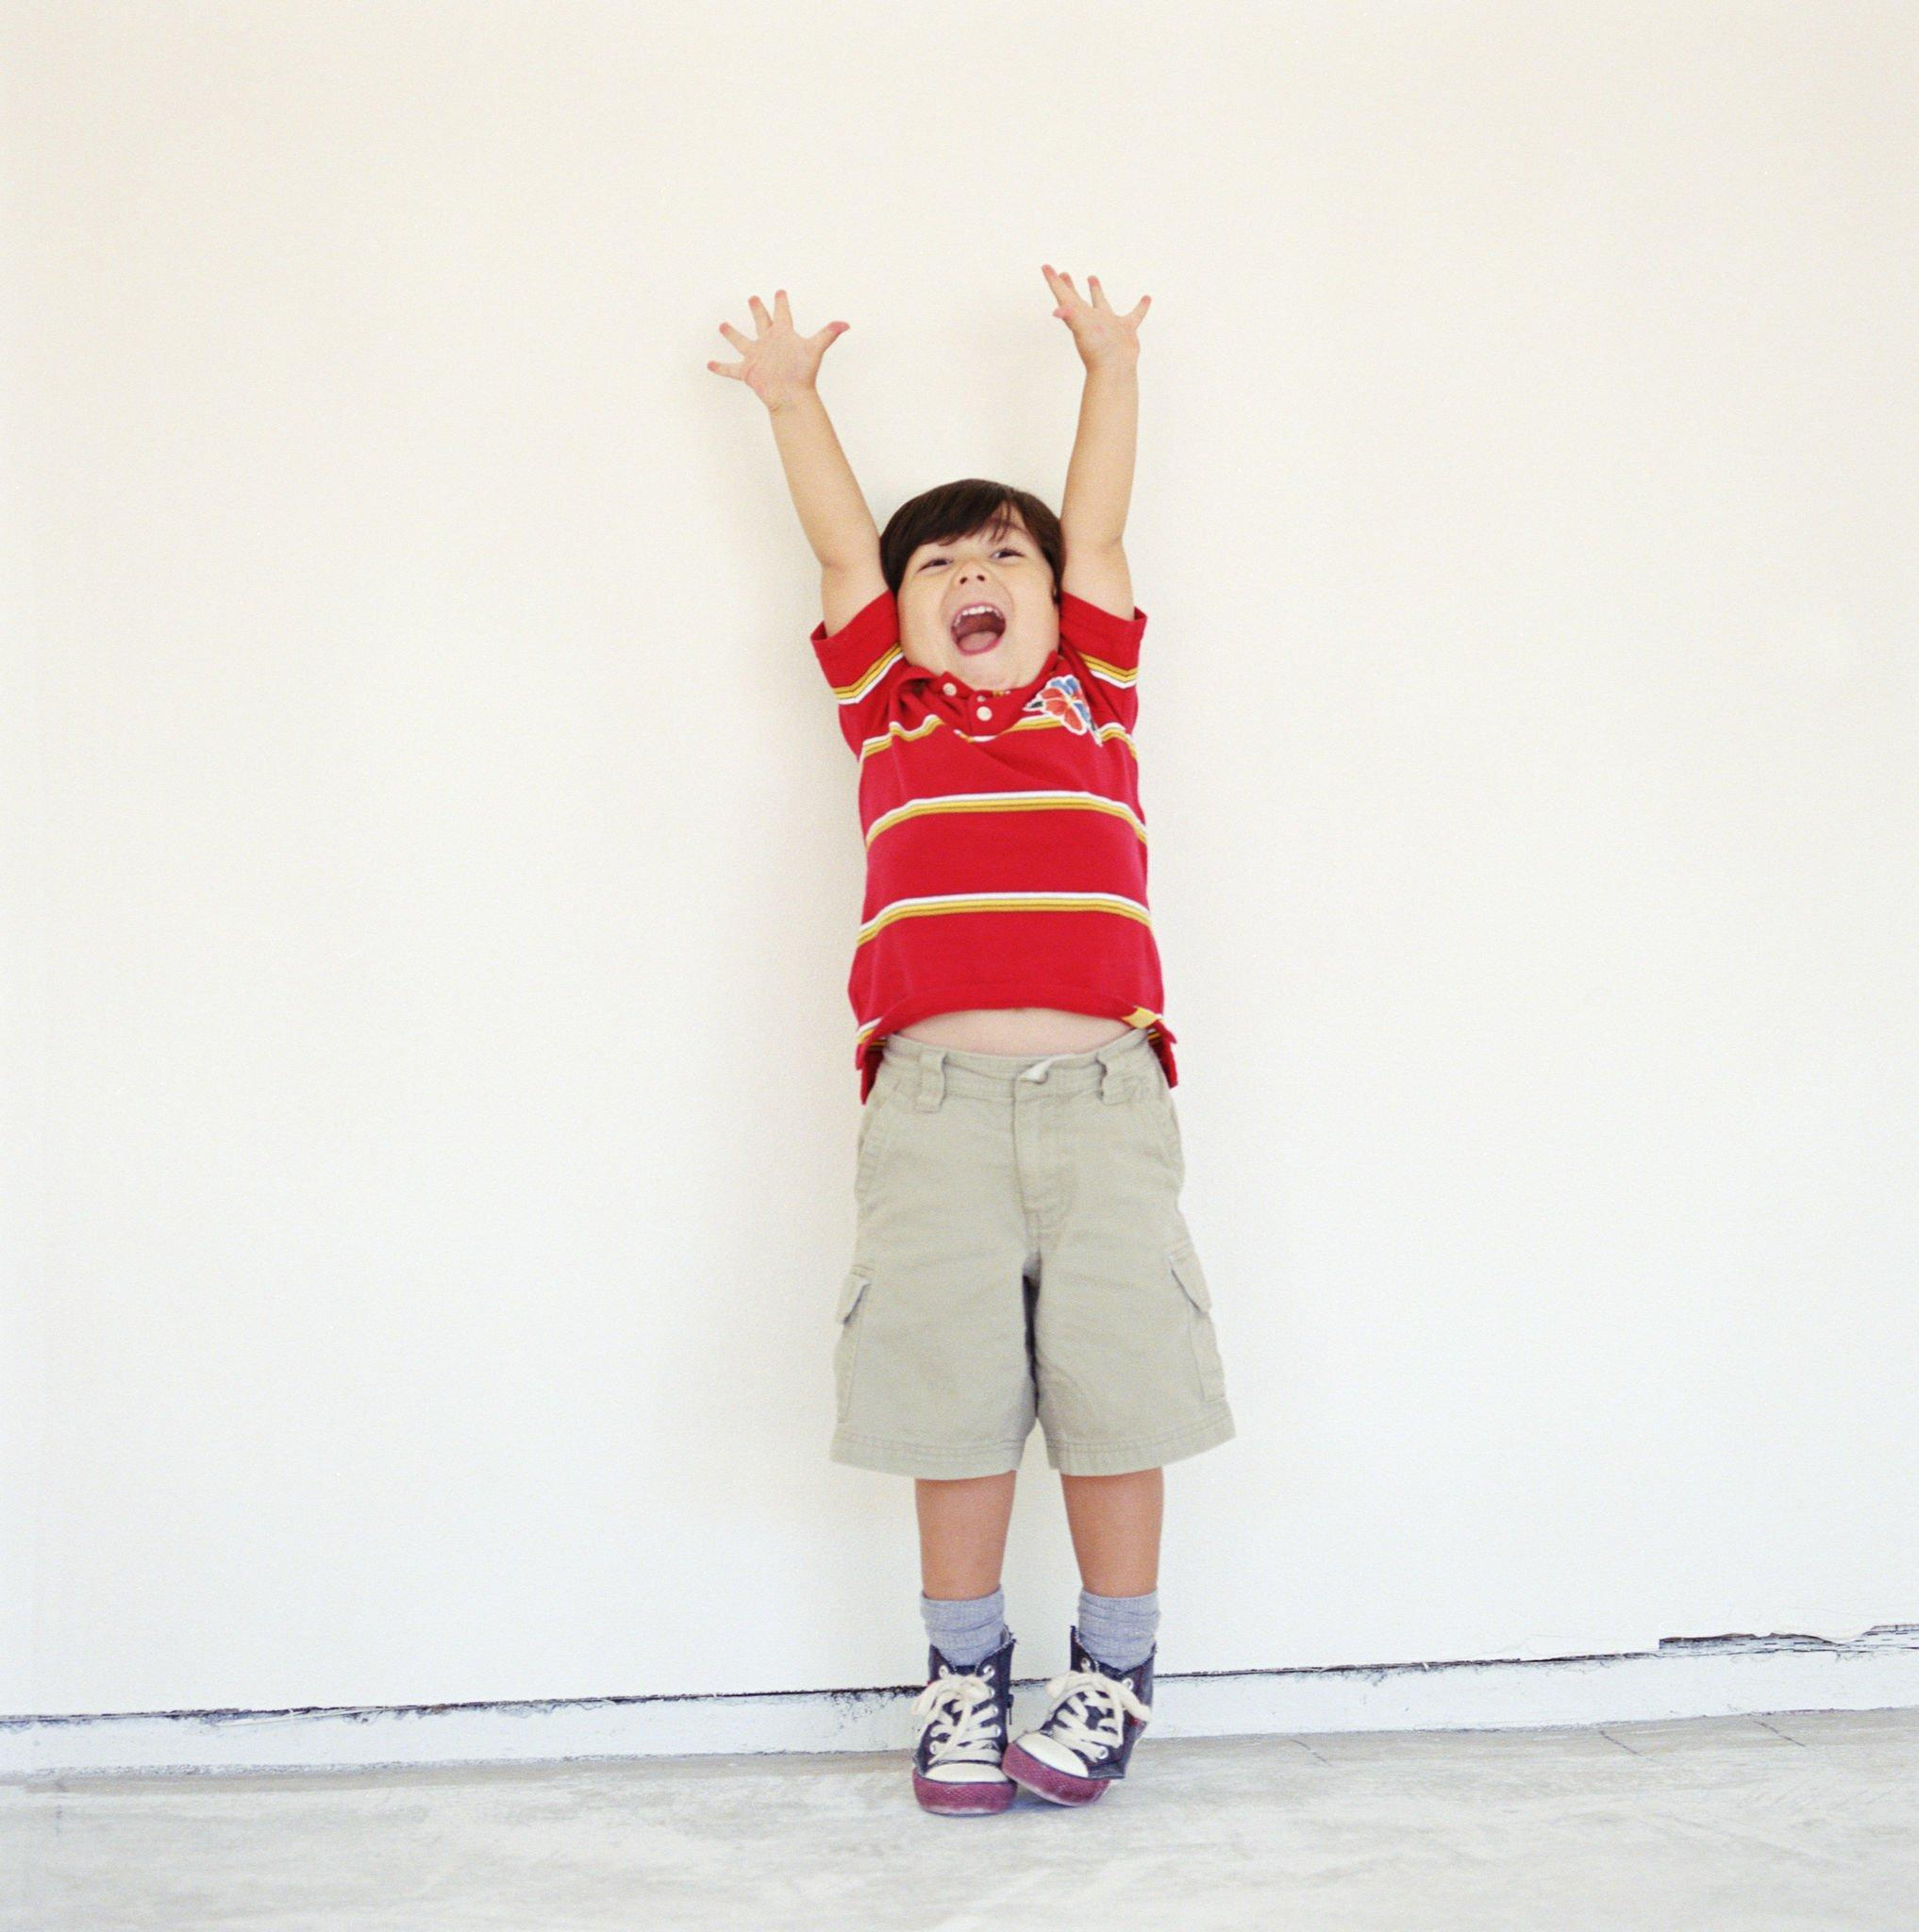Healthy: (879, 483, 1067, 722)
